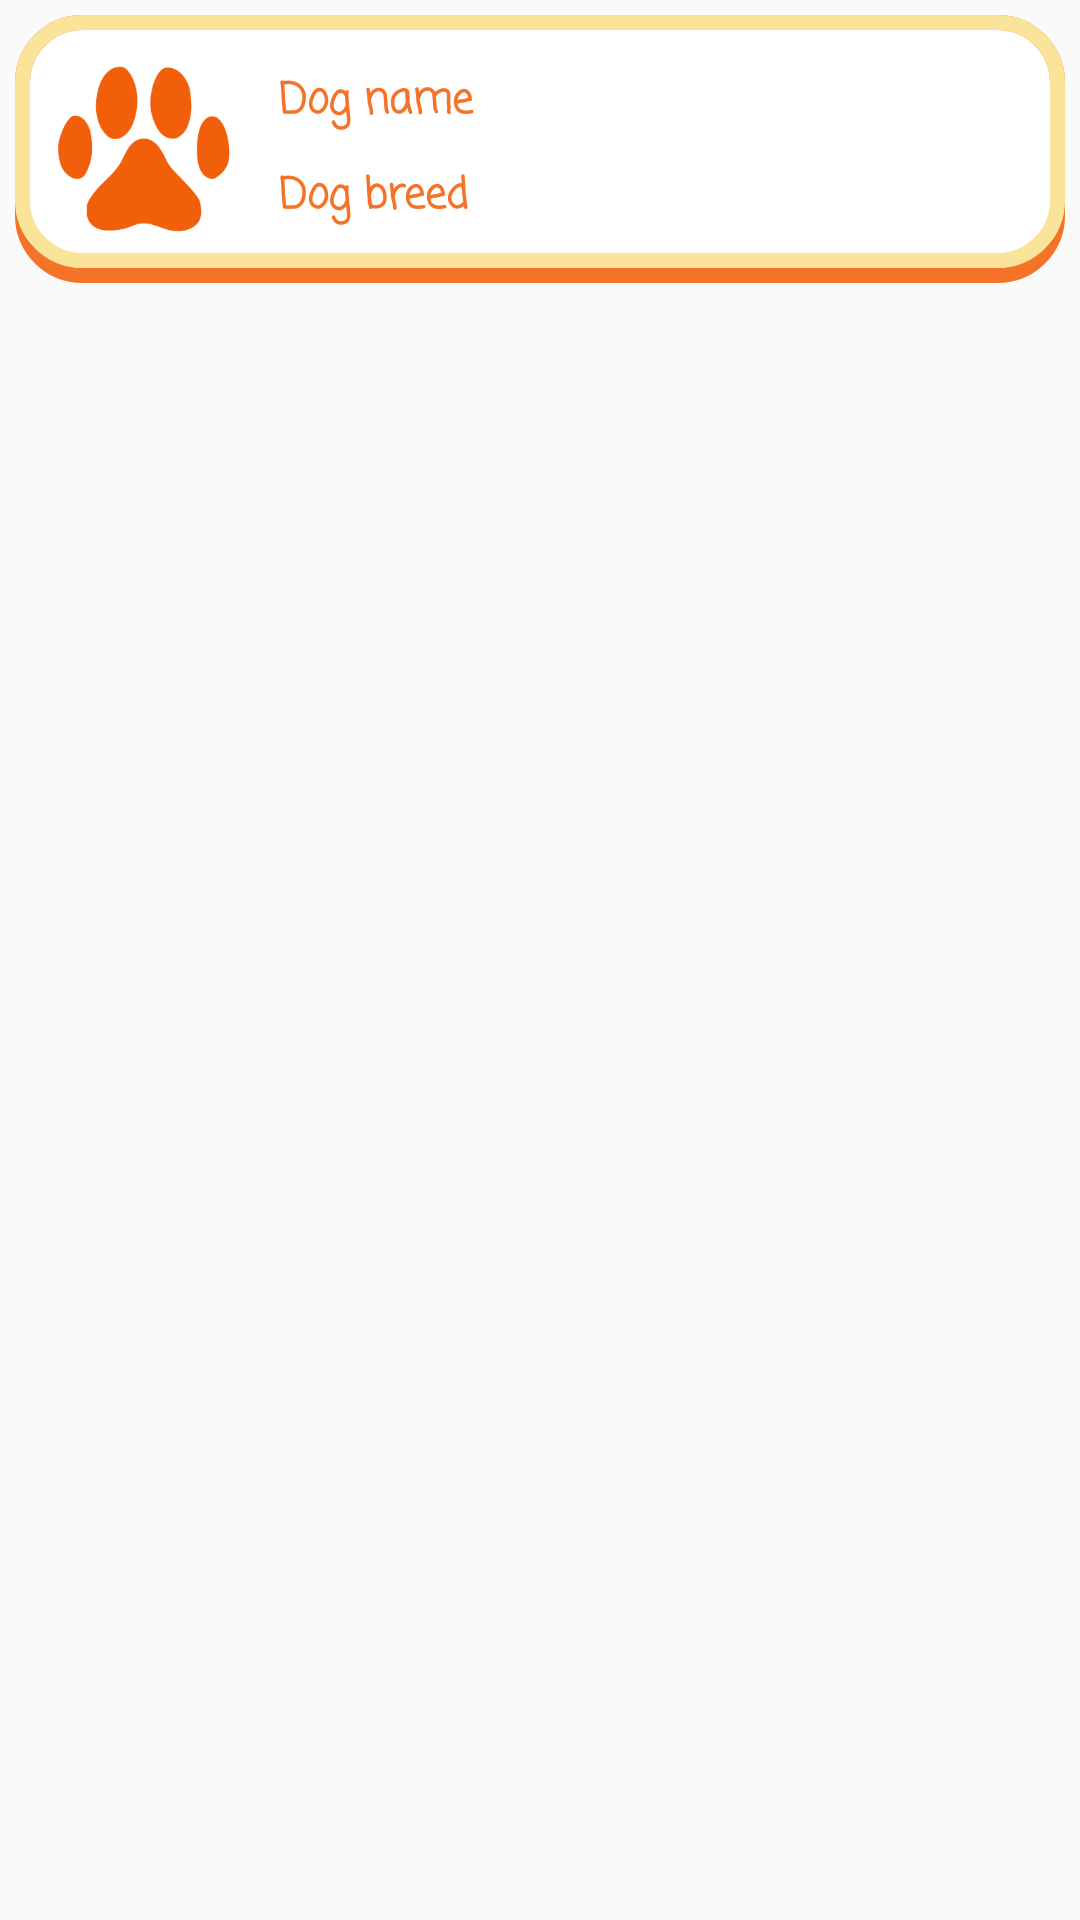

Point at icon controls on the screen. Image size 1080px×1920px, points as [x,y].
paw: [144,149]
